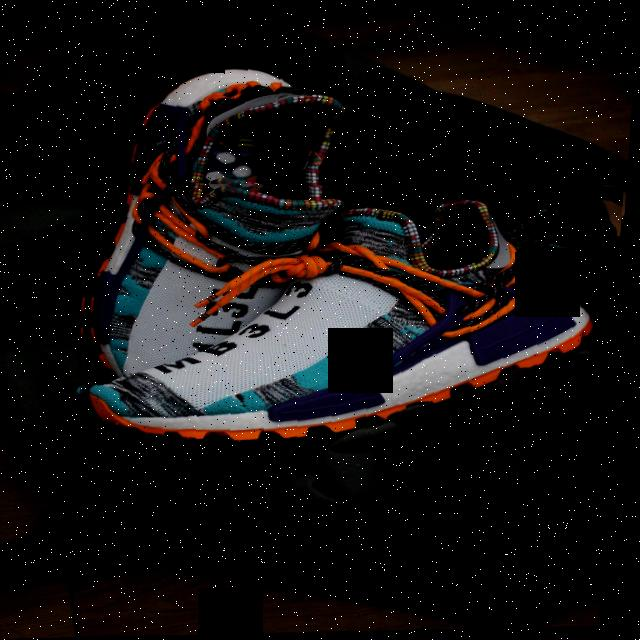shoe: (79, 174, 627, 460), (80, 56, 365, 394)
